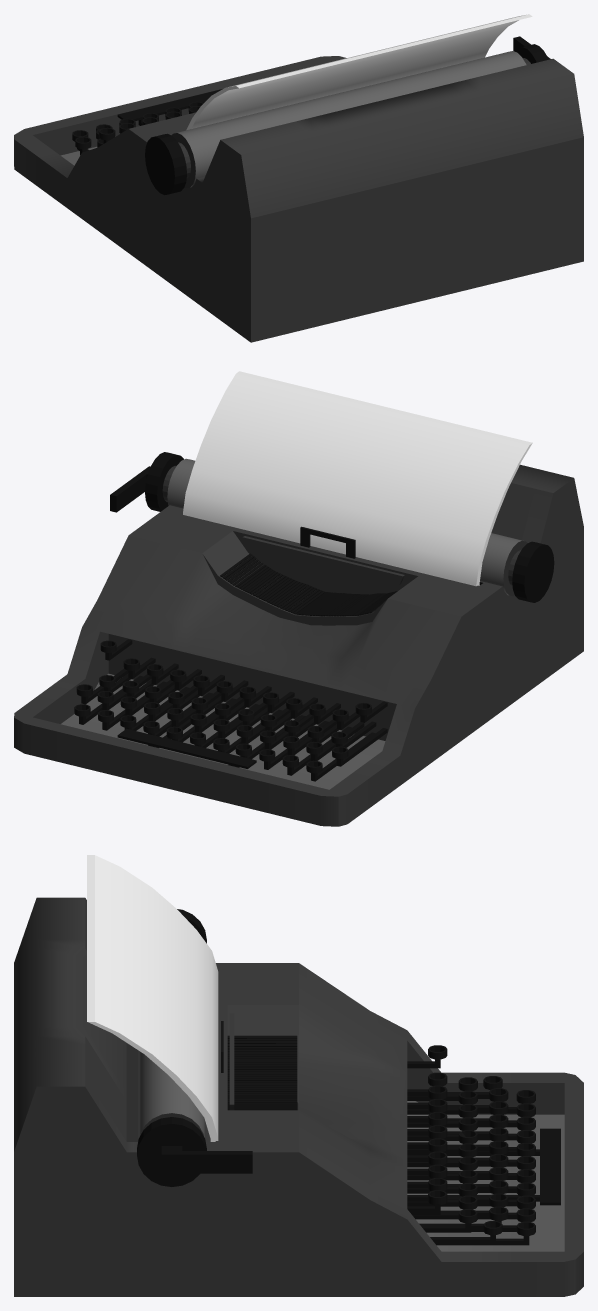
The model's file is TypewriterModel.fbx.
The picture shows the model from 3 angles, top to bottom: view 1: azimuth 30°, elevation 25°; view 2: azimuth 150°, elevation 25°; view 3: azimuth 270°, elevation 25°; orthographic projection. The views are drawn at different scales.
Visible parts, largest first — view 1: TypewriterModel; view 2: TypewriterModel; view 3: TypewriterModel.
Boxes of the visible parts, box(x1,y1,x2,y2) form: TypewriterModel: box(14, 14, 583, 342); TypewriterModel: box(14, 371, 583, 826); TypewriterModel: box(14, 855, 583, 1296).
Size of the model in its own units: 61.49 by 33.75 by 66.08.
